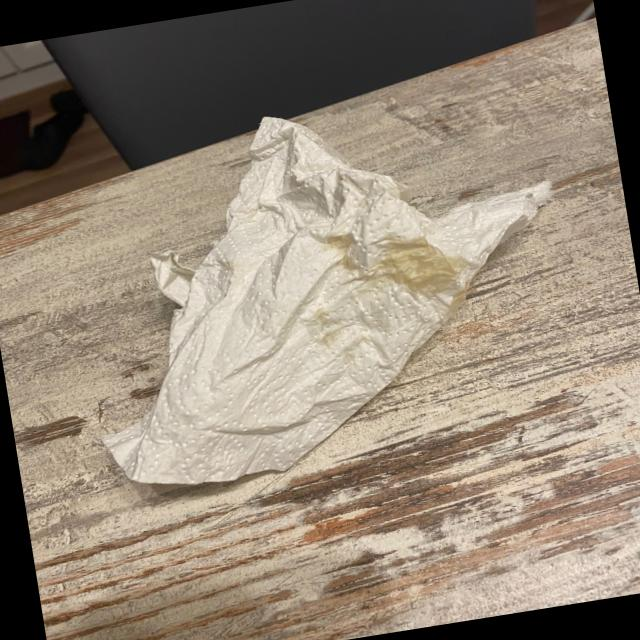organic waste: (65, 68, 590, 498)
